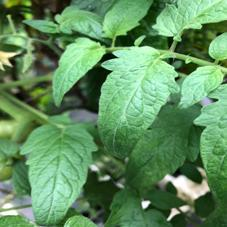Healthy: (99, 46, 179, 159), (16, 121, 99, 227), (50, 36, 107, 109), (177, 64, 226, 109), (104, 0, 154, 37)
